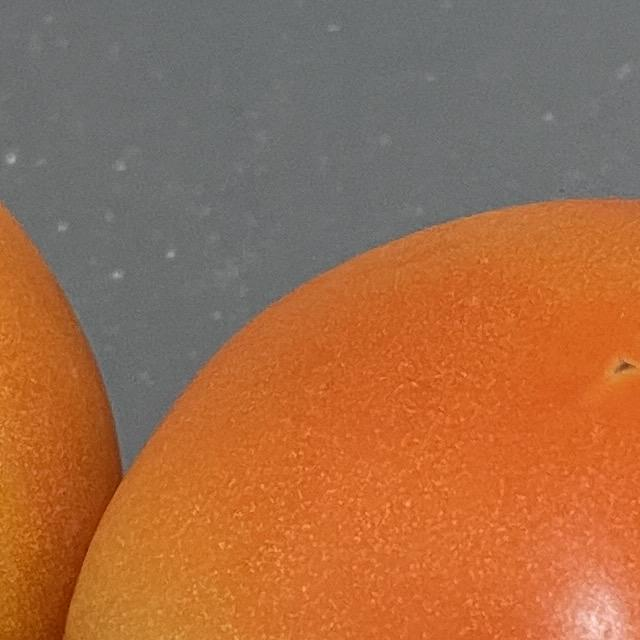tomato: (0, 16, 640, 640), (51, 177, 640, 640)
